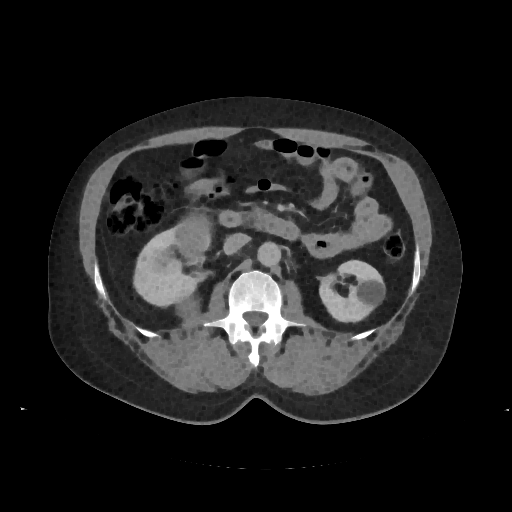Lesion: (353, 276, 390, 310)
